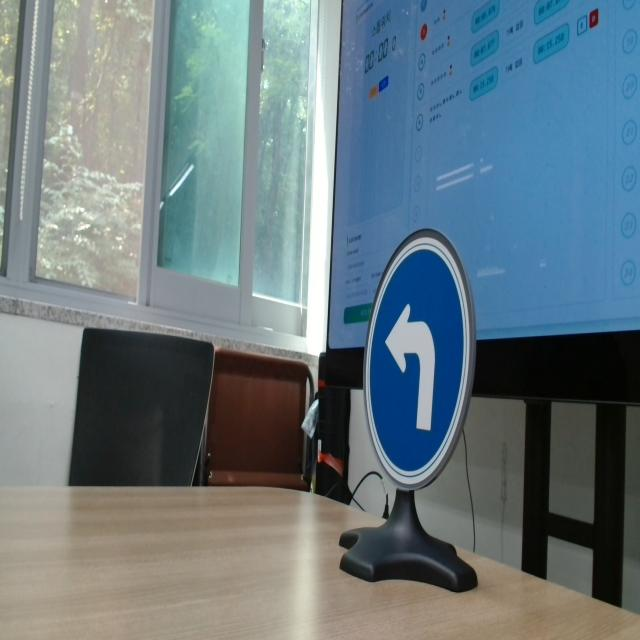left_direction: (355, 226, 482, 498)
